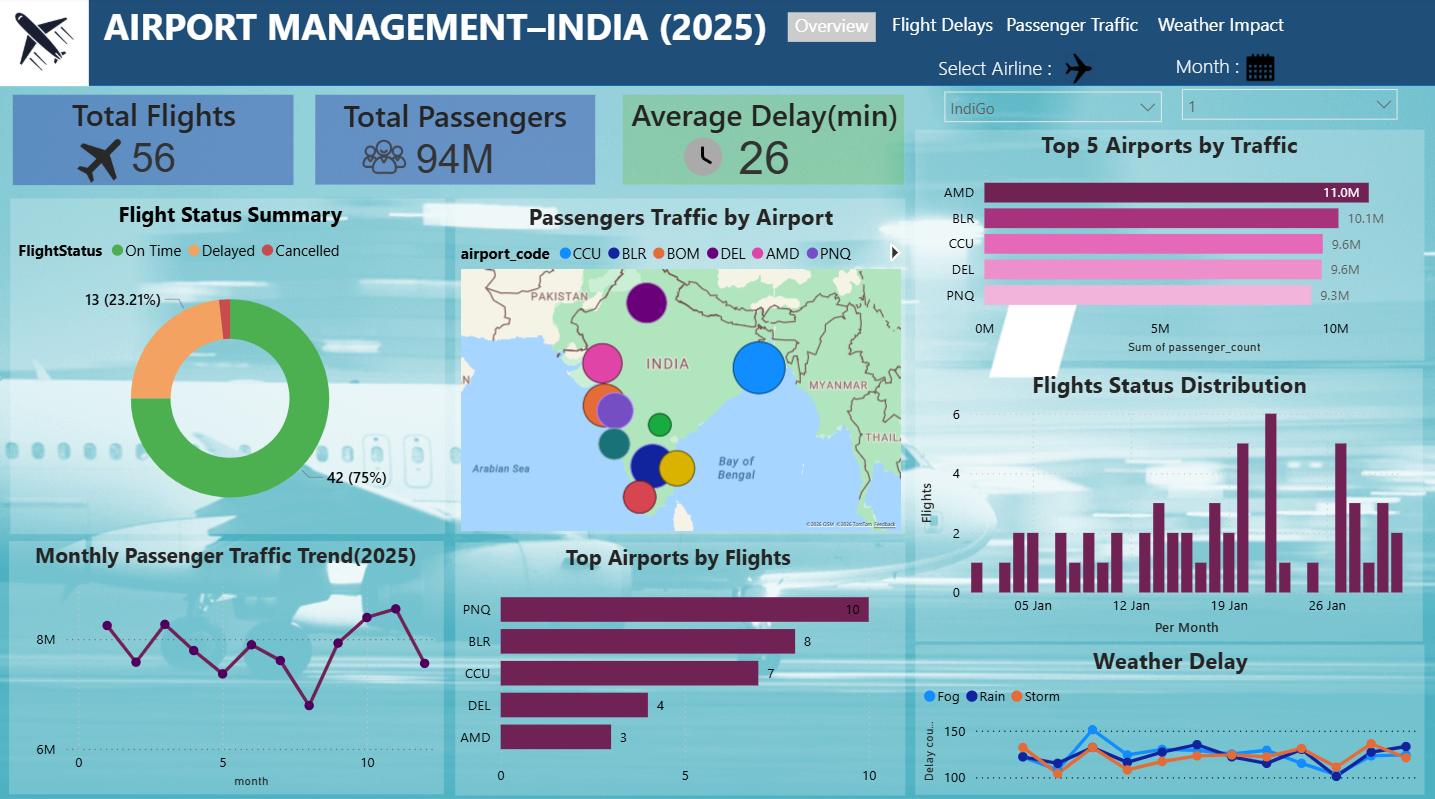

The page's visual inventory and layout, read from the dashboard file:
{"tool":"powerbi","page":{"name":"Page 1","canvas":[1280,720],"ordinal":0},"visuals":[{"type":"shape","box":[0,0,1280.2,80.2],"z":0},{"type":"textbox","box":[0,0,1280.2,80.2],"z":1000},{"type":"image","box":[0,1.2,81.4,79.1],"z":2000},{"type":"shape","box":[12,88,250,80.4],"z":3000},{"type":"shape","box":[281.6,87.9,249.4,80.1],"z":4000},{"type":"shape","box":[555.5,87.9,250.5,80.1],"z":5000},{"type":"shape","box":[10.2,180.7,387.5,298.9],"z":6000},{"type":"shape","box":[816.3,118.6,453.5,205.8],"z":7000},{"type":"shape","box":[405.8,180.2,401.2,298.8],"z":8000},{"type":"shape","box":[816.3,331.4,452.3,243],"z":9000},{"type":"shape","box":[9.3,484.9,387.2,225.6],"z":10000},{"type":"shape","box":[405.8,486,401.2,225.6],"z":11000},{"type":"shape","box":[816.3,577.9,453.5,133.7],"z":12000},{"type":"advanceCardE03760C5AB684758B56AA29F9E6C257B","title":"Total Flights","fields":{"mainMeasure":["India_Flight_Operations_2025.Total Flights"]},"box":[13.4,86.8,249.4,80.1],"z":13000},{"type":"advanceCardE03760C5AB684758B56AA29F9E6C257B","title":"Total Passengers","fields":{"mainMeasure":["Sum(india_passenger_traffic_2025.passenger_count)"]},"box":[281.6,87.9,249.4,80.1],"z":14000},{"type":"advanceCardE03760C5AB684758B56AA29F9E6C257B","title":"Average Delay(min)","fields":{"mainMeasure":["Avg(India_Flight_Operations_2025.DepartureDelay)"]},"box":[556.6,86.8,250.5,80.1],"z":15000},{"type":"image","box":[323.3,122.1,41,41],"z":16000},{"type":"pageNavigator","title":"Overview","box":[702.4,14.4,78,26.4],"z":17000},{"type":"pageNavigator","title":"Flight Delays","box":[790.1,13.2,99.7,26.4],"z":18000},{"type":"pageNavigator","title":"Passenger Traffic","box":[880.2,13.2,150.1,26.4],"z":19000},{"type":"pageNavigator","title":"Weather Impact","box":[1019.4,13.2,136.9,26.4],"z":20000},{"type":"slicer","title":"Month :","fields":{"Values":["India_Flight_Operations_2025.month"]},"box":[1043,50,212.8,68.6],"z":21000},{"type":"slicer","title":"Select Airline :","fields":{"Values":["India_Flight_Operations_2025.Airline"]},"box":[831.4,52.3,214,69.8],"z":22000},{"type":"donutChart","title":"Flight Status Summary","fields":{"Category":["India_Flight_Operations_2025.FlightStatus"],"Y":["CountNonNull(India_Flight_Operations_2025.FlightID)"]},"box":[12.2,181.4,387.4,299.4],"z":23000},{"type":"lineChart","title":"Monthly Passenger Traffic Trend(2025)","fields":{"Y":["Sum(india_passenger_traffic_2025.passenger_count)"],"Category":["india_passenger_traffic_2025.month"]},"box":[9.6,485.8,384.2,225],"z":24000},{"type":"clusteredColumnChart","title":"Flights Status Distribution","fields":{"Category":["India_Flight_Operations_2025.Date"],"Y":["CountNonNull(India_Flight_Operations_2025.FlightID)"]},"box":[816,331.7,453.1,242.7],"z":25000},{"type":"barChart","title":"Top Airports by Flights","fields":{"Category":["Airport_Information_India_2025.airport_code"],"Y":["CountNonNull(India_Flight_Operations_2025.FlightID)"]},"box":[403.5,486,403.5,225.6],"z":26000},{"type":"image","box":[607,122.1,40.7,40.7],"z":27000},{"type":"image","box":[68.5,127.2,40.2,40.2],"z":28000},{"type":"image","box":[946.5,48.8,30.2,30.2],"z":29000},{"type":"image","box":[1111,51.2,24.5,24.5],"z":30000},{"type":"lineChart","title":"Weather Delay","fields":{"Y":["Sum(india_weather_2025.fog)","Sum(india_weather_2025.rain)","Sum(india_weather_2025.storm)"],"Category":["Date_Table.MonthNo"]},"box":[818.6,577.9,450,132.6],"z":31000},{"type":"clusteredBarChart","title":"Top 5 Airports by Traffic","fields":{"Y":["Sum(india_passenger_traffic_2025.passenger_count)"],"Category":["Airport_Information_India_2025.airport_code"]},"box":[816.5,118,452.8,205.8],"z":32000},{"type":"azureMap","title":"Passengers Traffic by Airport","fields":{"Y":["Airport_Information_India_2025.latitude"],"X":["Airport_Information_India_2025.longitude"],"Size":["Sum(india_passenger_traffic_2025.passenger_count)"],"Series":["Airport_Information_India_2025.airport_code"]},"box":[406.2,182.5,402.1,299.1],"z":33000}]}

Visuals, with their boxes in screenshot pixels (x1, y1, x2, y2), scaled from the page's 1280x720 canvas onto the 1435x799 screenshot:
shape: <bbox>0, 0, 1434, 89</bbox>
textbox: <bbox>0, 0, 1434, 89</bbox>
image: <bbox>0, 1, 91, 89</bbox>
shape: <bbox>13, 98, 294, 187</bbox>
shape: <bbox>316, 98, 595, 186</bbox>
shape: <bbox>623, 98, 904, 186</bbox>
shape: <bbox>11, 201, 446, 532</bbox>
shape: <bbox>915, 132, 1424, 360</bbox>
shape: <bbox>455, 200, 905, 532</bbox>
shape: <bbox>915, 368, 1422, 637</bbox>
shape: <bbox>10, 538, 445, 788</bbox>
shape: <bbox>455, 539, 905, 790</bbox>
shape: <bbox>915, 641, 1424, 790</bbox>
"Total Flights" advanceCardE03760C5AB684758B56AA29F9E6C257B: <bbox>15, 96, 295, 185</bbox>
"Total Passengers" advanceCardE03760C5AB684758B56AA29F9E6C257B: <bbox>316, 98, 595, 186</bbox>
"Average Delay(min)" advanceCardE03760C5AB684758B56AA29F9E6C257B: <bbox>624, 96, 905, 185</bbox>
image: <bbox>362, 135, 408, 181</bbox>
"Overview" pageNavigator: <bbox>787, 16, 875, 45</bbox>
"Flight Delays" pageNavigator: <bbox>886, 15, 998, 44</bbox>
"Passenger Traffic" pageNavigator: <bbox>987, 15, 1155, 44</bbox>
"Weather Impact" pageNavigator: <bbox>1143, 15, 1296, 44</bbox>
"Month :" slicer: <bbox>1169, 55, 1408, 132</bbox>
"Select Airline :" slicer: <bbox>932, 58, 1172, 135</bbox>
"Flight Status Summary" donutChart: <bbox>14, 201, 448, 534</bbox>
"Monthly Passenger Traffic Trend(2025)" lineChart: <bbox>11, 539, 441, 789</bbox>
"Flights Status Distribution" clusteredColumnChart: <bbox>915, 368, 1423, 637</bbox>
"Top Airports by Flights" barChart: <bbox>452, 539, 905, 790</bbox>
image: <bbox>681, 135, 726, 181</bbox>
image: <bbox>77, 141, 122, 186</bbox>
image: <bbox>1061, 54, 1095, 88</bbox>
image: <bbox>1246, 57, 1273, 84</bbox>
"Weather Delay" lineChart: <bbox>918, 641, 1422, 788</bbox>
"Top 5 Airports by Traffic" clusteredBarChart: <bbox>915, 131, 1423, 359</bbox>
"Passengers Traffic by Airport" azureMap: <bbox>455, 203, 906, 534</bbox>
